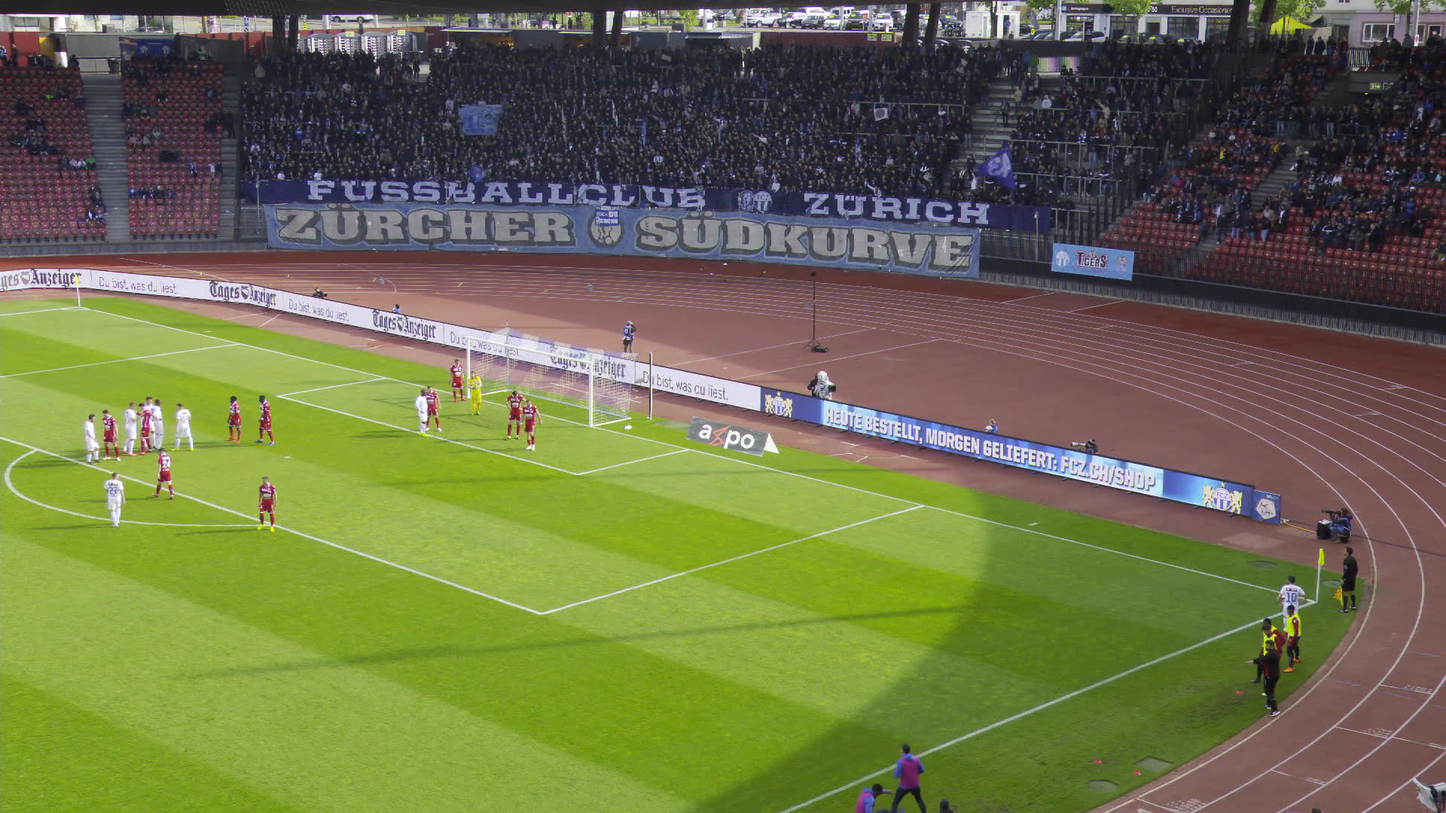ball: (1277, 593, 1283, 601)
player: (1278, 574, 1307, 638), (103, 470, 128, 528), (138, 395, 162, 453), (256, 474, 279, 534), (519, 397, 544, 451), (502, 387, 527, 440), (252, 392, 276, 446), (170, 401, 194, 450), (99, 409, 121, 461), (154, 445, 175, 499), (121, 399, 140, 457), (148, 398, 168, 452), (421, 383, 443, 432), (82, 413, 102, 464), (224, 393, 243, 444), (447, 358, 467, 403), (136, 400, 152, 455), (468, 370, 485, 417), (413, 387, 428, 436)
